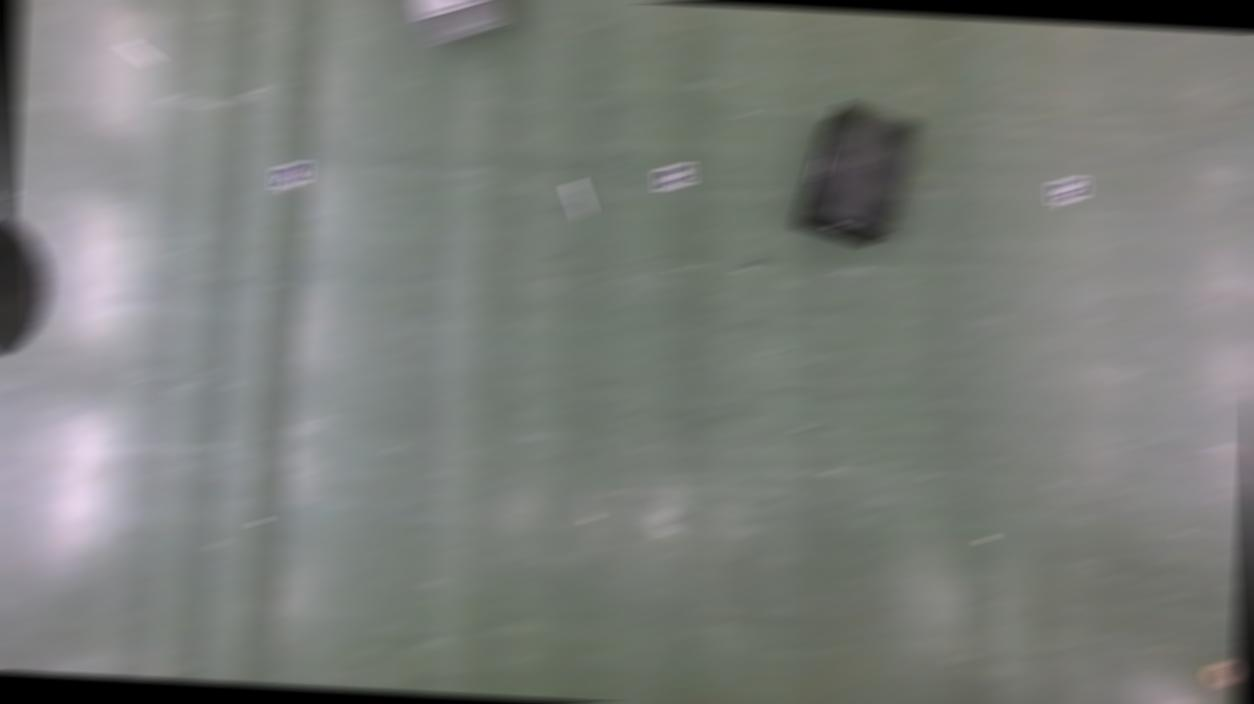probes: (562, 182, 590, 218), (119, 42, 160, 66)
rako: (791, 103, 920, 250), (399, 1, 511, 51)
